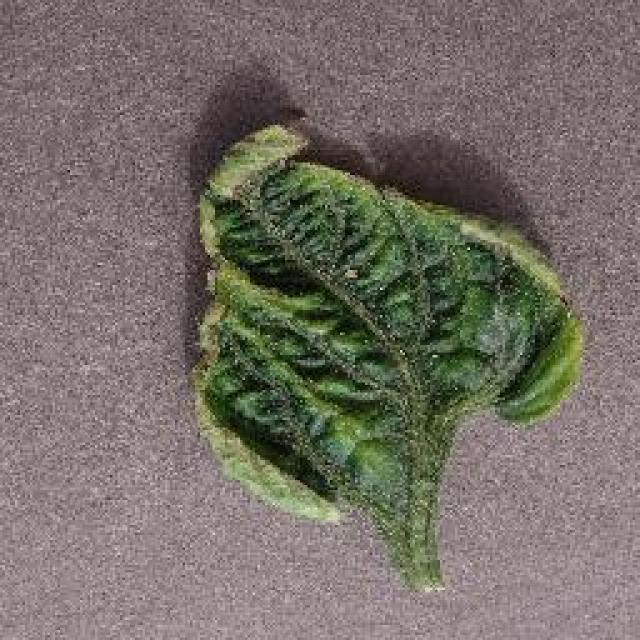Tomato yellow virus leaf: (192, 110, 580, 524)
